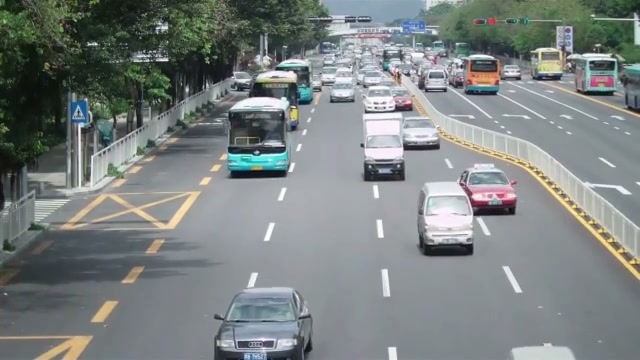bus: (226, 96, 293, 177), (249, 70, 300, 130), (573, 53, 619, 95), (276, 58, 312, 105), (463, 54, 501, 95), (530, 48, 564, 80)
car: (212, 286, 314, 360), (416, 181, 475, 256), (361, 112, 406, 181), (457, 167, 518, 216), (401, 116, 440, 150), (362, 86, 396, 113), (329, 78, 356, 103), (423, 69, 448, 93), (390, 87, 414, 110), (231, 71, 254, 93), (502, 64, 522, 80)
truck: (361, 112, 406, 181), (573, 53, 619, 95), (530, 48, 564, 80), (620, 62, 640, 110)
